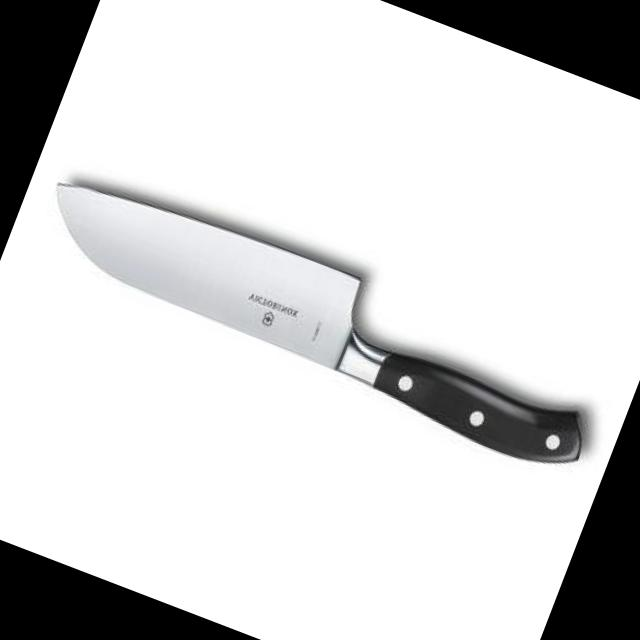Weapon: (10, 142, 632, 491)
